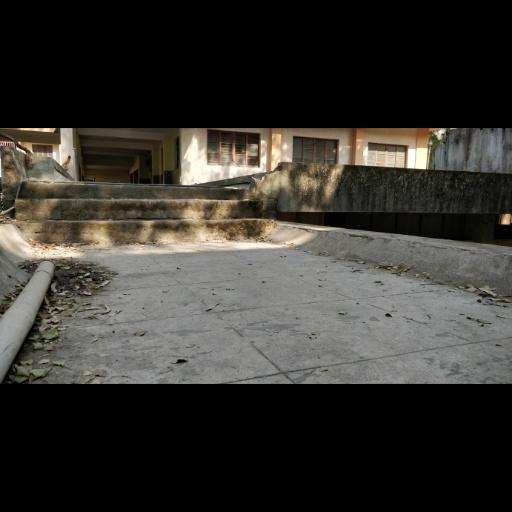stairs: (15, 181, 274, 243)
